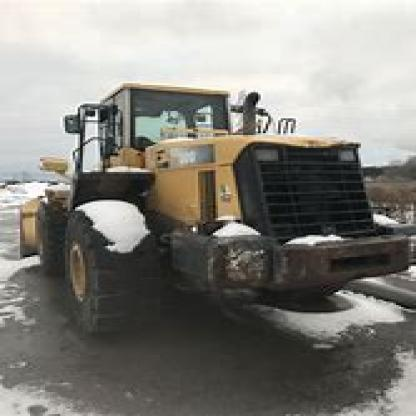bull_dozer/loader/grader: (15, 79, 414, 333)
